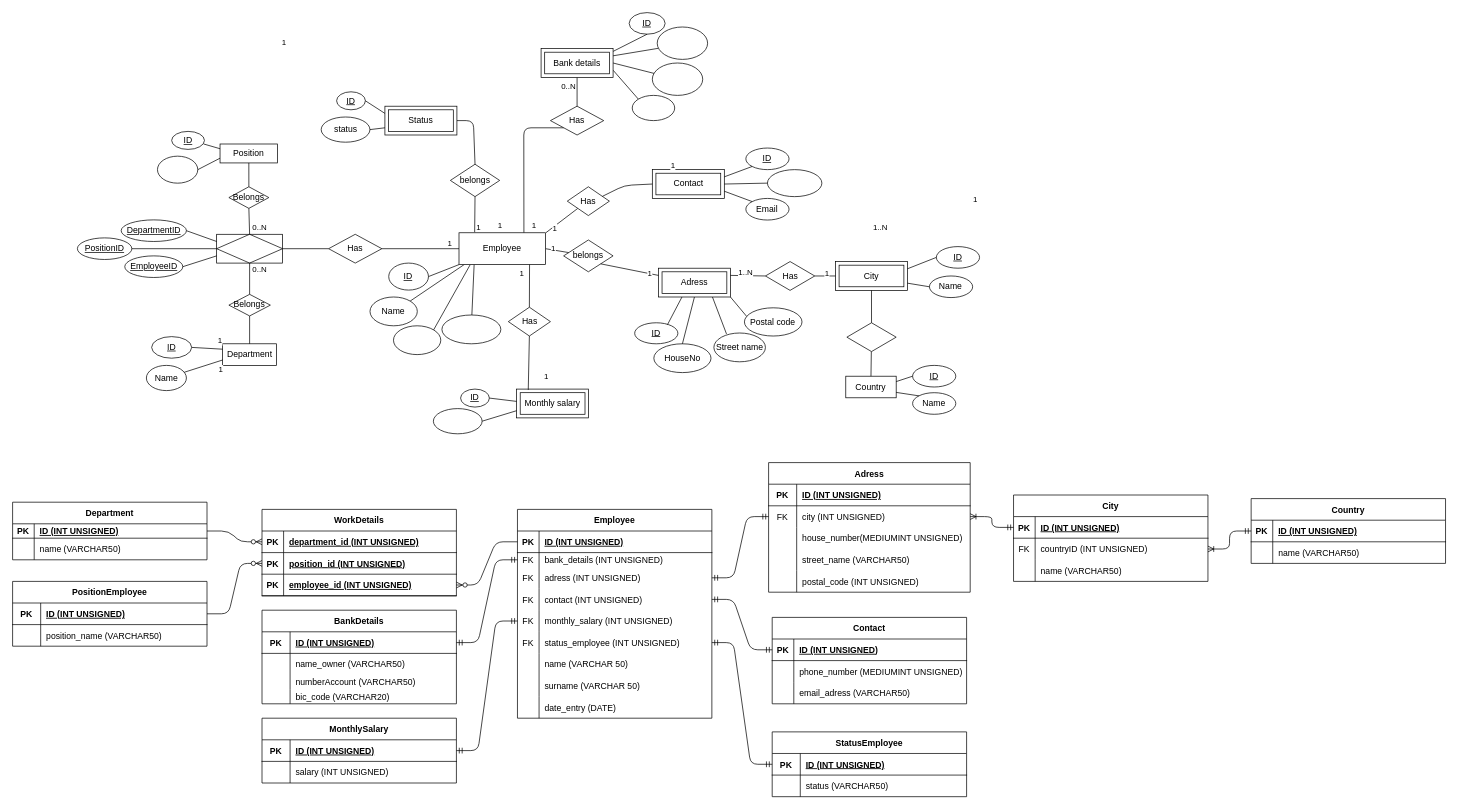
Image size: 1459x809. Some labels were removed from this diagram. The shapes that lost their labels are listed below. From the top down, each one's centre as x and y in pixels, then its label:
the point at 682,42: Name owner
the point at 677,78: Number account
the point at 653,108: Bic code
the point at 177,169: Position name
the point at 794,183: Phone Number
the point at 249,248: Work details
the point at 417,340: Surname
the point at 471,329: Date of entry
the point at 871,337: In
the point at 457,421: salary
